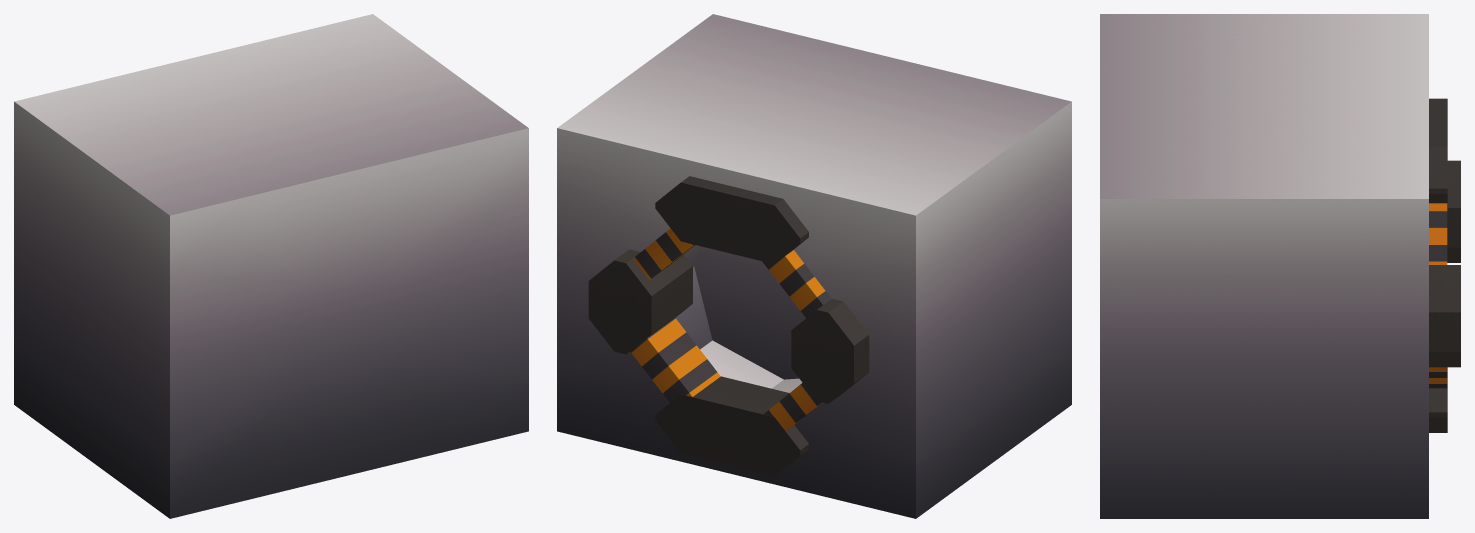
File: Gate_Machine.FBX
The picture shows the model from 3 angles, left to right: view 1: azimuth 30°, elevation 25°; view 2: azimuth 150°, elevation 25°; view 3: azimuth 270°, elevation 25°; orthographic projection. The views are drawn at different scales.
Visible parts, largest first — view 1: Gate_Machine; view 2: Gate_Machine; view 3: Gate_Machine.
Boxes of the visible parts, <box> form: Gate_Machine: <box>14,14,528,518</box>; Gate_Machine: <box>557,14,1071,518</box>; Gate_Machine: <box>1100,14,1460,518</box>.
Bounding box in the file's own units: 2.66 × 2.15 × 2.19.
Materials: 1 (1 with a texture image).
